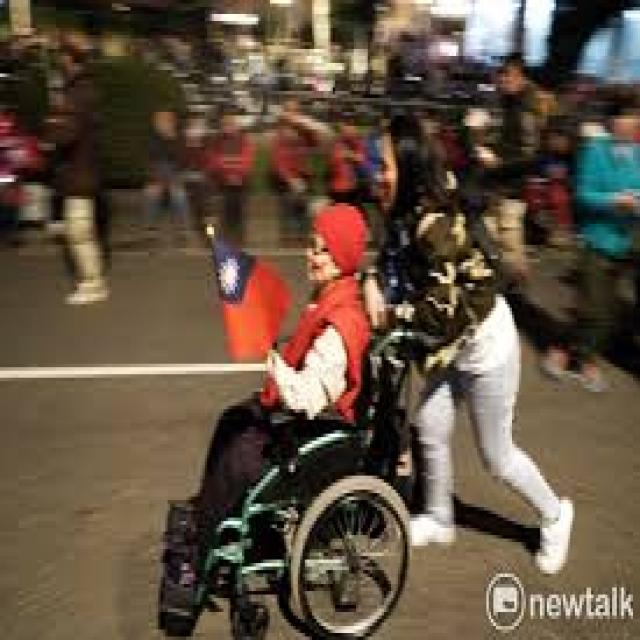wheelchairs: (144, 312, 433, 636)
